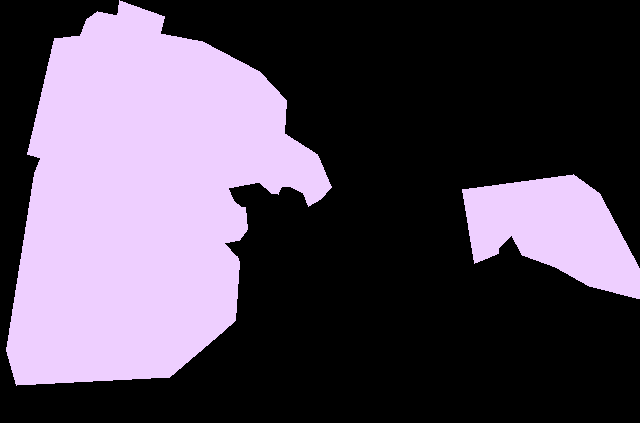Train: (6, 0, 332, 385), (462, 174, 640, 300)
